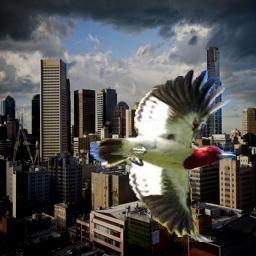Woodpecker: (90, 69, 236, 242)
